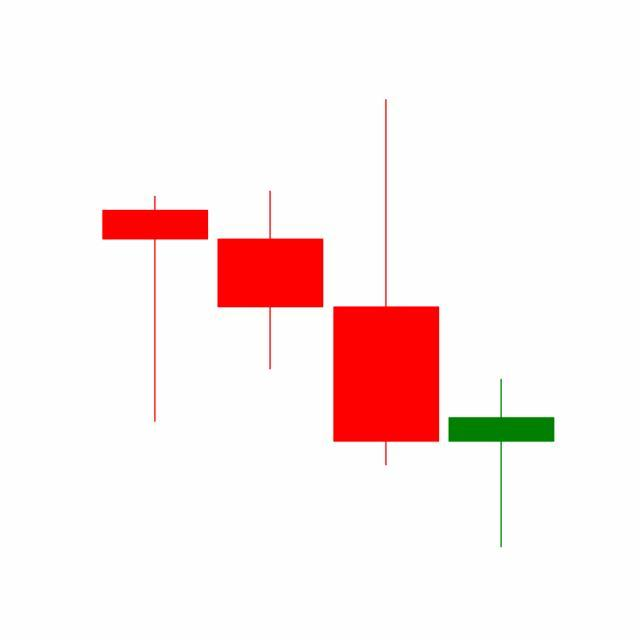Spinning Top: (444, 377, 560, 550)
